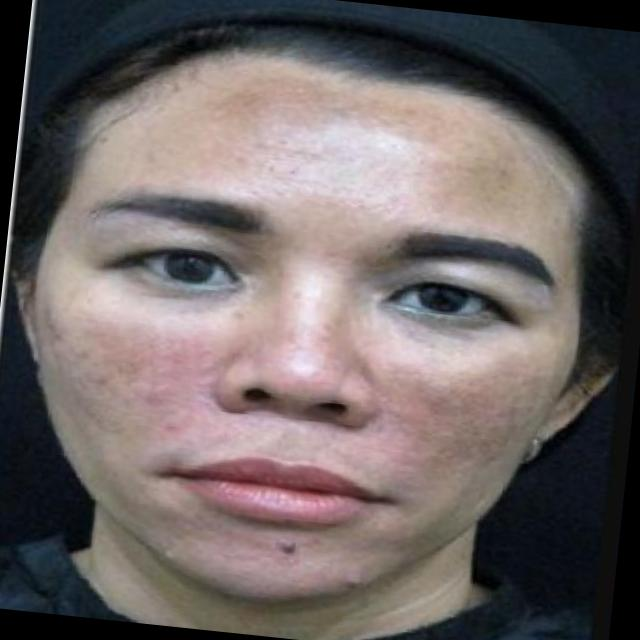melasma: (107, 58, 577, 238), (24, 288, 249, 493), (362, 352, 552, 549)
